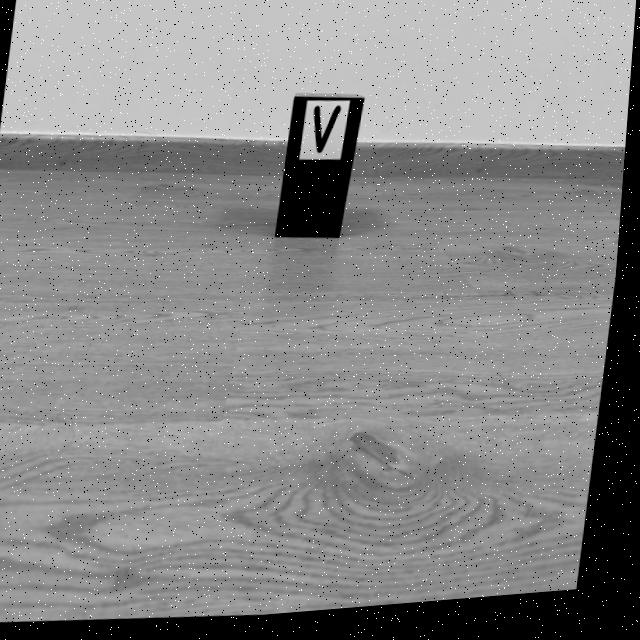V: (316, 111, 343, 159)
